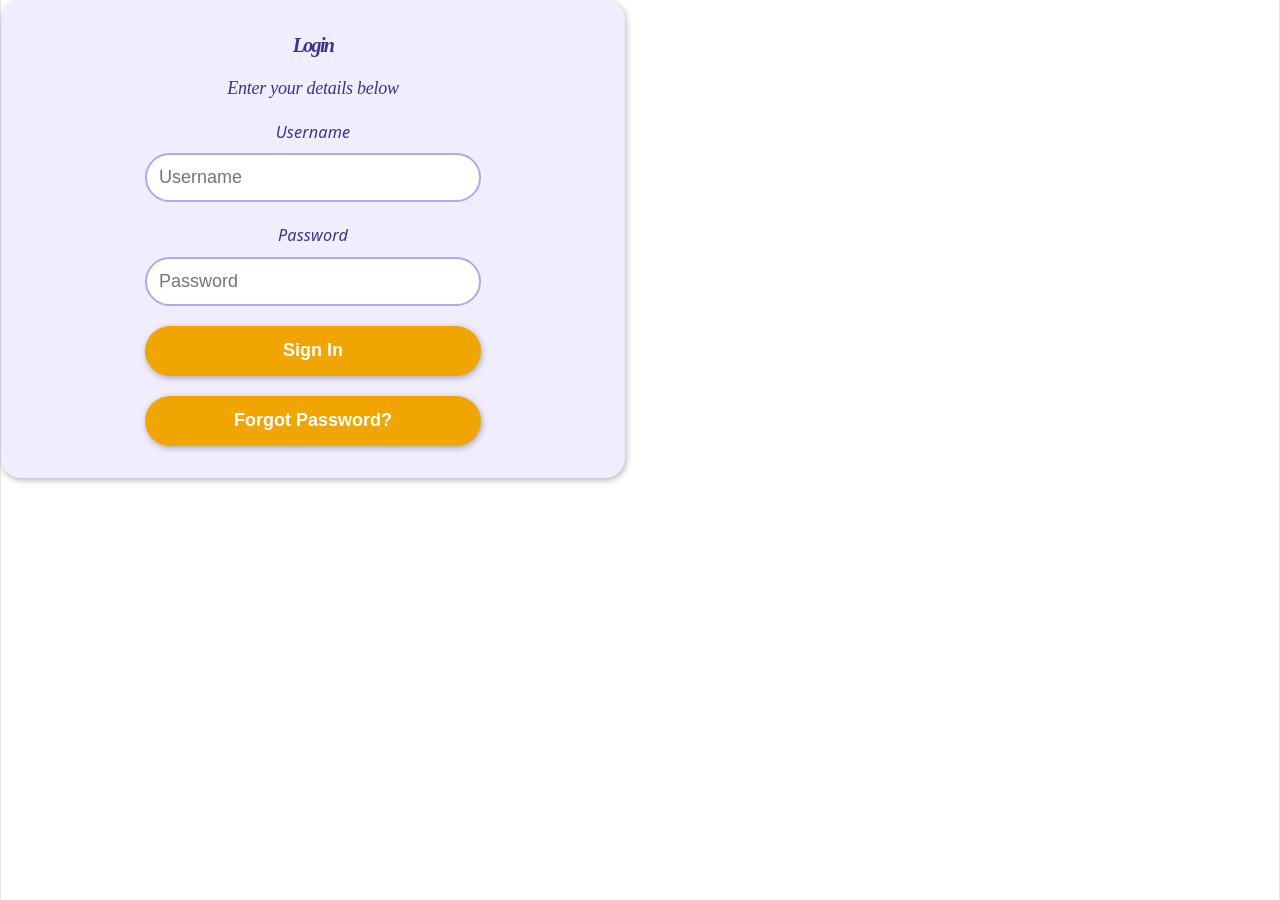
Scenario: Login Page Unit Tests › shows error message on failed login
Type "user1" into the field with placeholder "Username" at point(313, 178), box top-left (145, 153), bottom-right (481, 202)
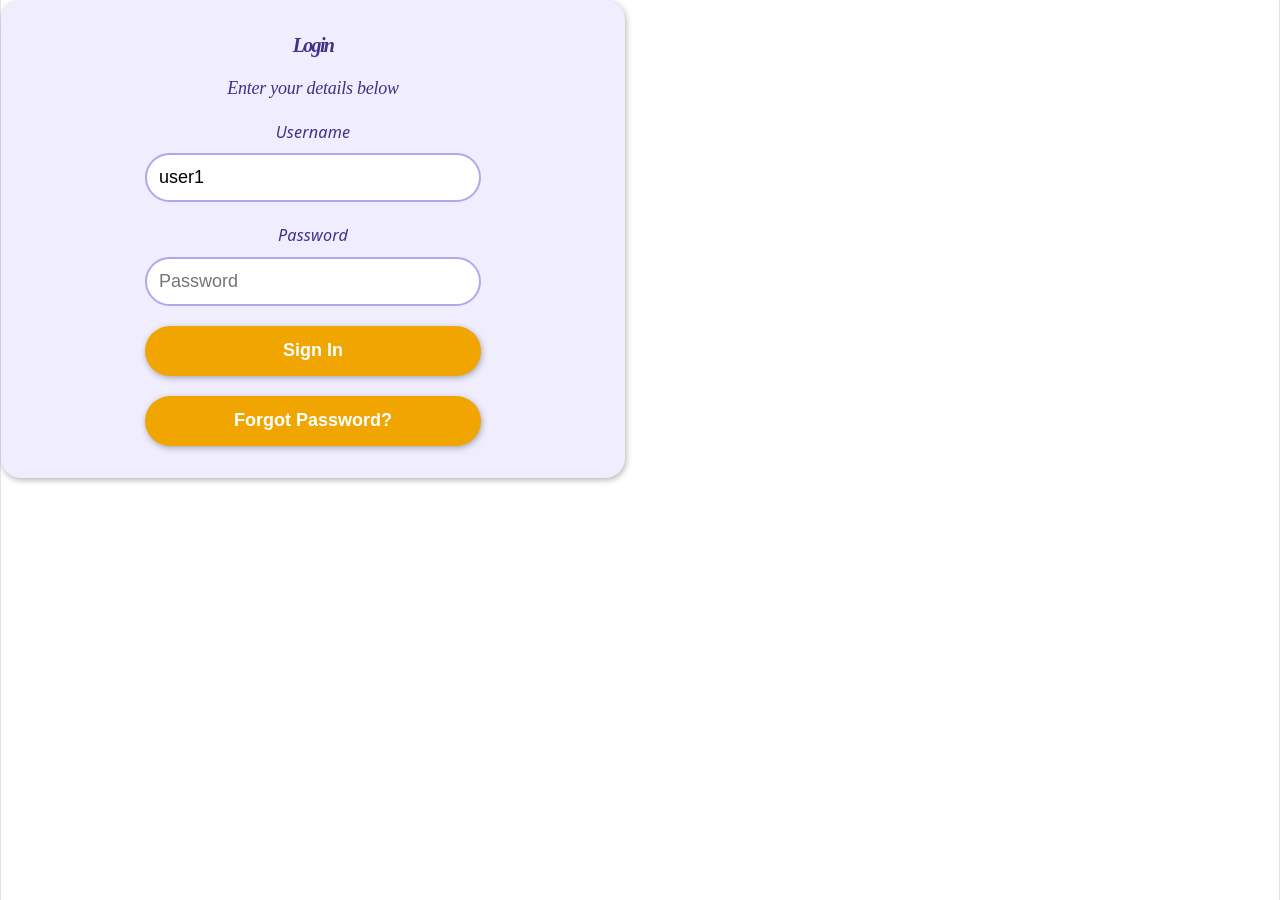
Type "wrongpass" into the password field with placeholder "Password" at point(313, 281), box top-left (145, 256), bottom-right (481, 306)
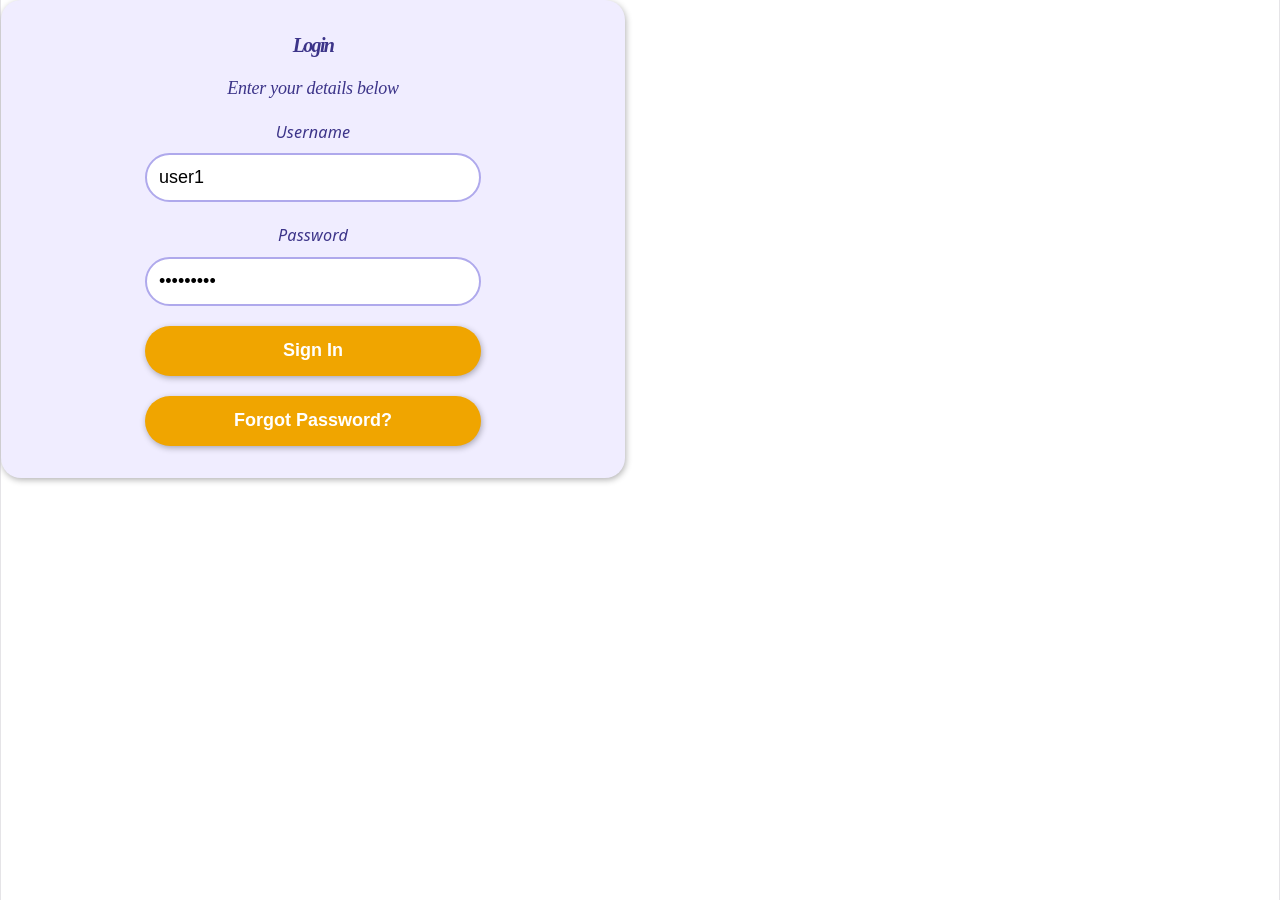
Click the button "Sign In" at point(313, 350), box top-left (145, 326), bottom-right (481, 376)
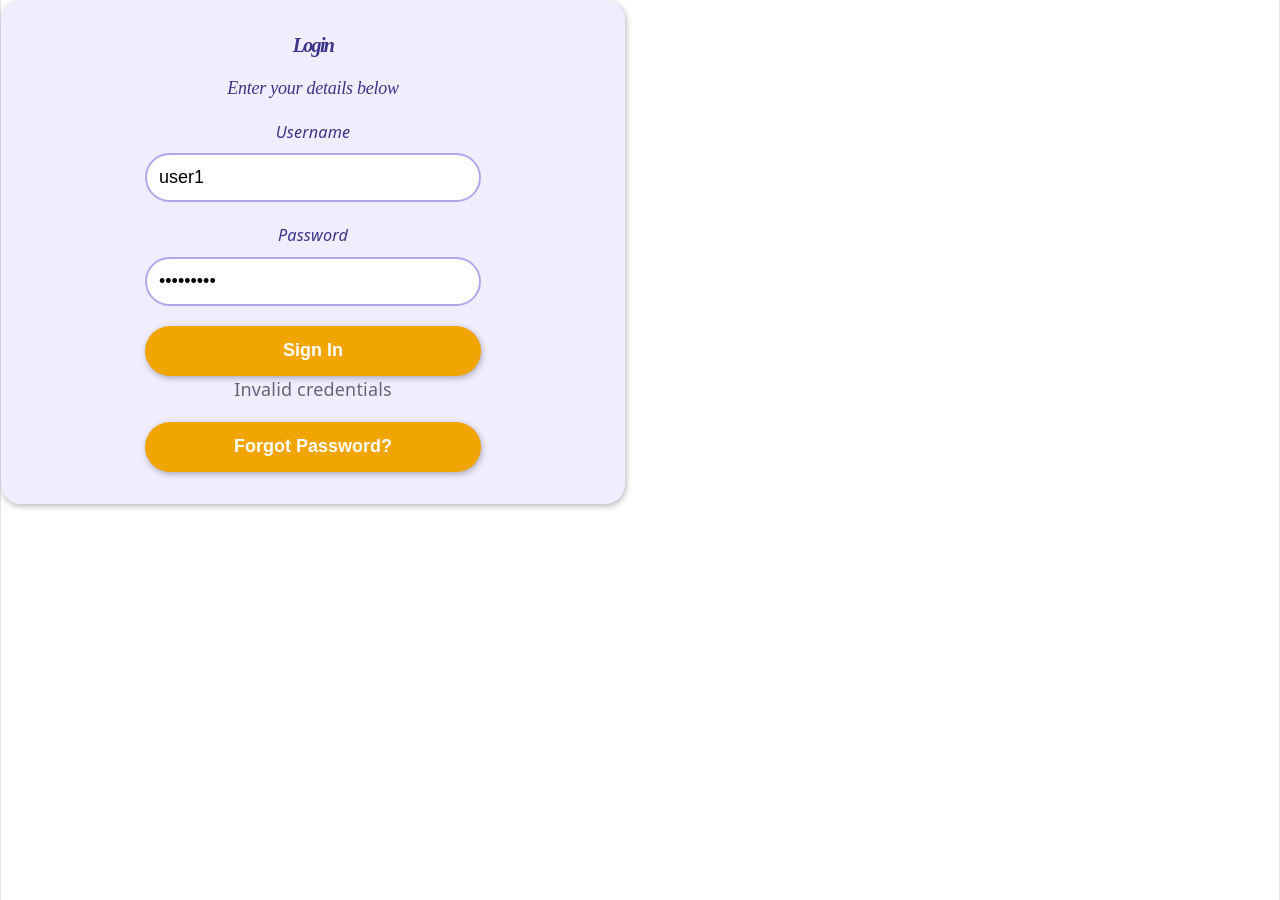
Check: the text "Invalid credentials" is shown, box top-left (234, 376), bottom-right (392, 402)
